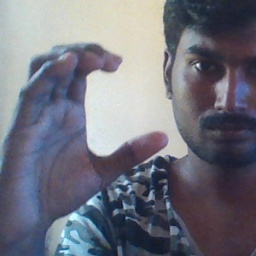C: (17, 37, 175, 186)
